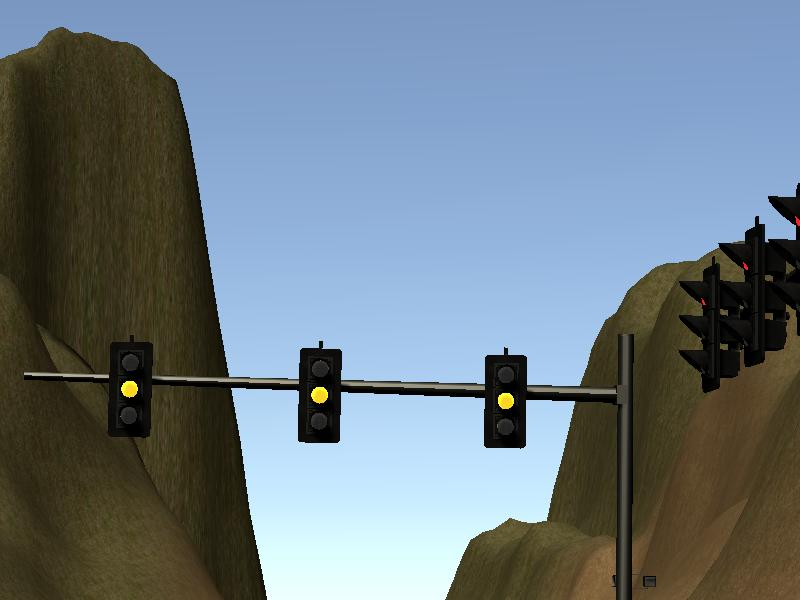Yellow: (109, 344, 151, 436), (485, 357, 525, 448), (300, 349, 339, 439)
